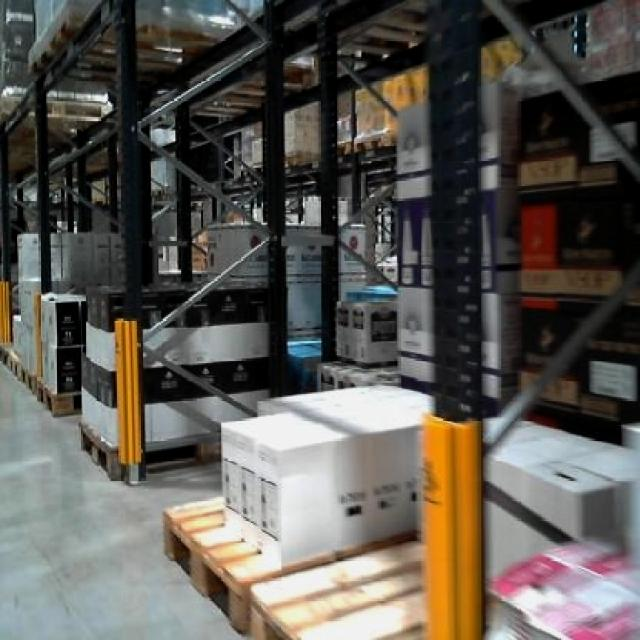pallets: (220, 385, 429, 562), (249, 538, 423, 637), (483, 540, 637, 637), (38, 292, 83, 406)
